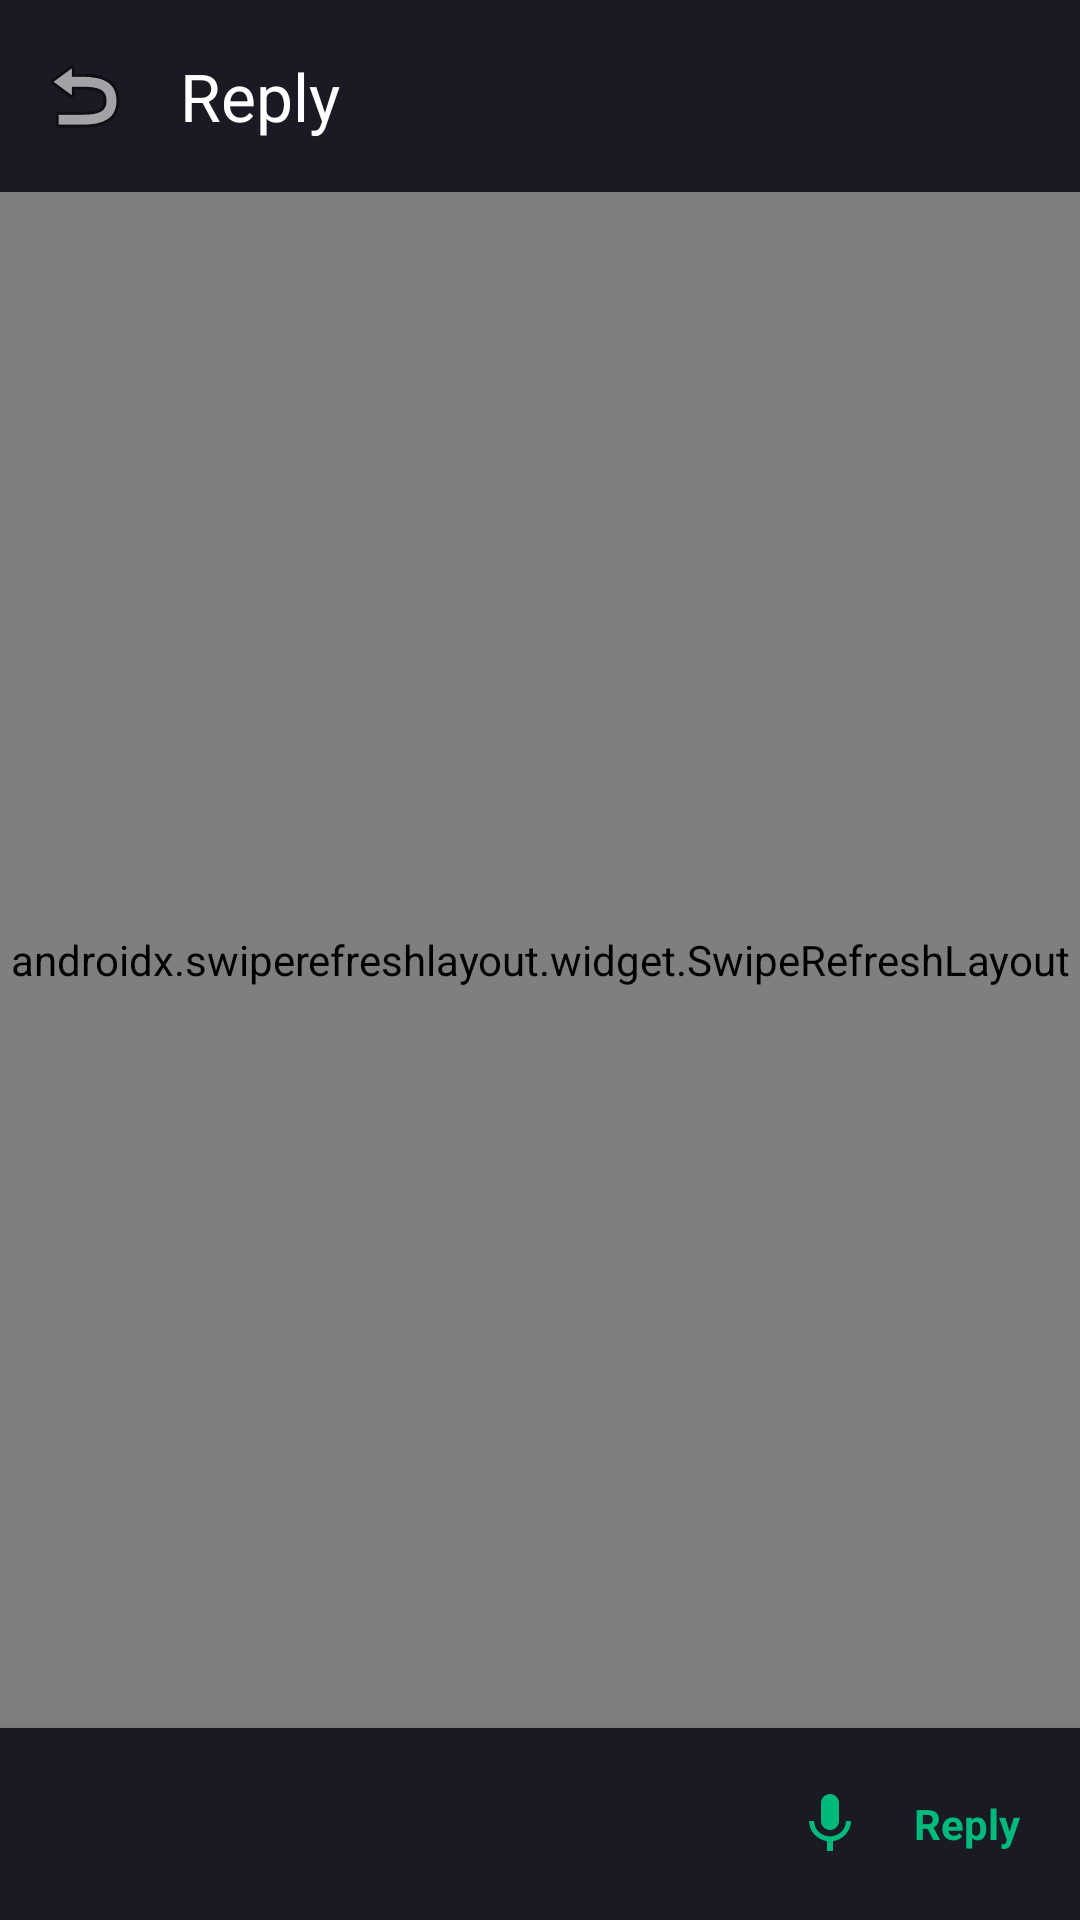

Where icons sit on this 1080 × 1920 app screen, as (x1, y1, x2, y2):
Dictate: (809, 1794, 851, 1851)
